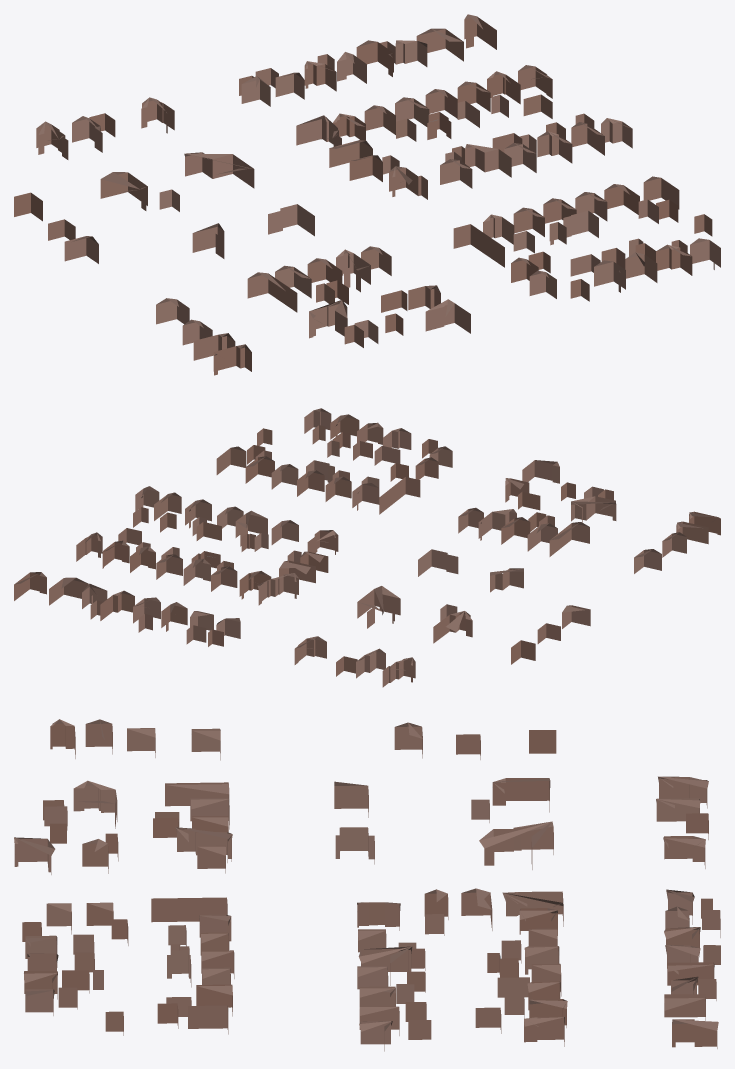
The model's file is c_1644_17827_buildings_residential.glb.
3 renders of one model, top to bottom at view 1: azimuth 30°, elevation 25°; view 2: azimuth 150°, elevation 25°; view 3: azimuth 270°, elevation 25°, orthographic. The views are drawn at different scales.
Parts seen in each view (by area): view 1: geometry_0; view 2: geometry_0; view 3: geometry_0.
Boxes of the visible parts, left/top/right/bottom form: geometry_0: left=14, top=14, right=720, bottom=375; geometry_0: left=14, top=408, right=720, bottom=687; geometry_0: left=14, top=719, right=720, bottom=1051.
Size of the model in its own units: 266 by 10.94 by 257.
